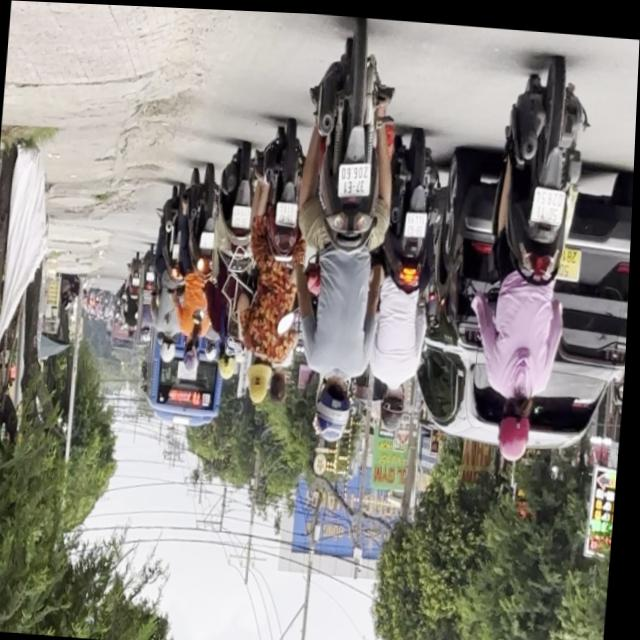helmet: (498, 388, 538, 458), (317, 375, 359, 441), (383, 379, 411, 427), (221, 342, 241, 380)
licenseplate: (280, 17, 407, 448), (467, 48, 596, 463), (369, 126, 451, 431), (238, 117, 315, 409), (204, 141, 265, 385)
motorcyclist: (248, 355, 276, 403), (270, 366, 291, 404)
nohelmet: (532, 181, 567, 221), (339, 157, 373, 195), (406, 207, 430, 236), (276, 198, 300, 224), (233, 202, 253, 228)
